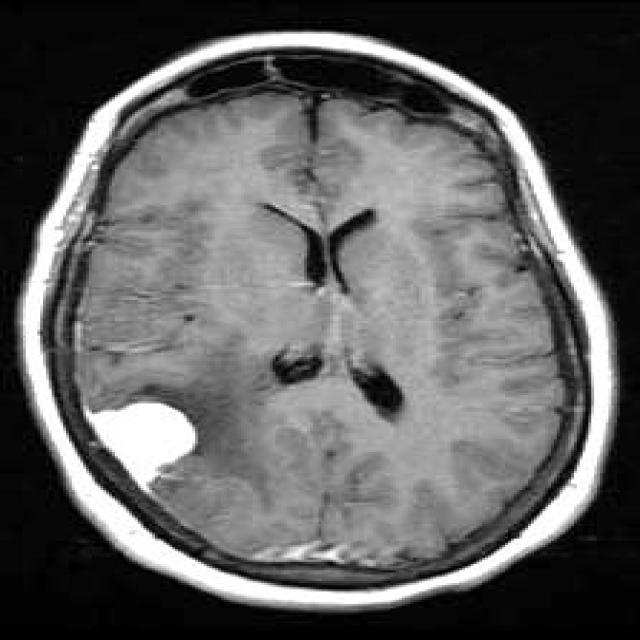brain tumor: (89, 401, 192, 486)
